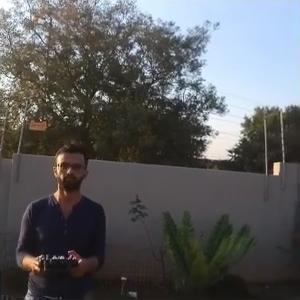follow: (9, 141, 108, 298)
